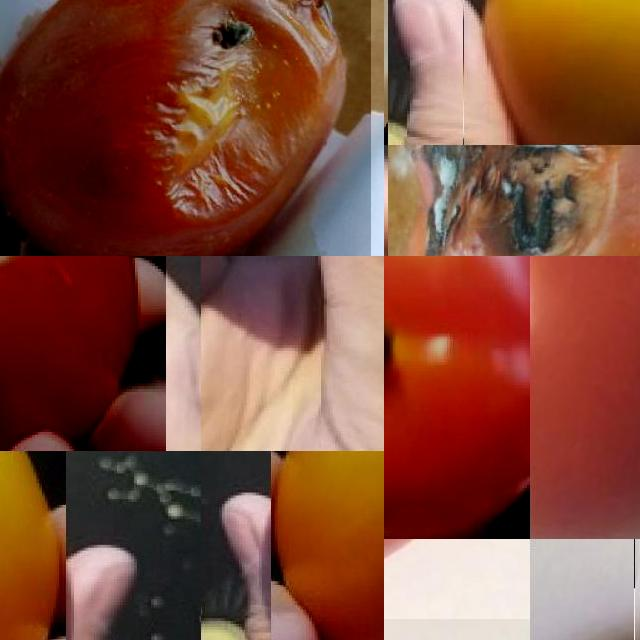0: (463, 0, 640, 145)
1: (0, 0, 370, 256), (388, 145, 640, 256)
Fresh Tomato: (384, 256, 530, 539), (0, 256, 166, 451), (530, 256, 640, 539), (384, 539, 529, 619)
Rotten Tomato: (271, 451, 384, 640), (0, 451, 66, 640)
